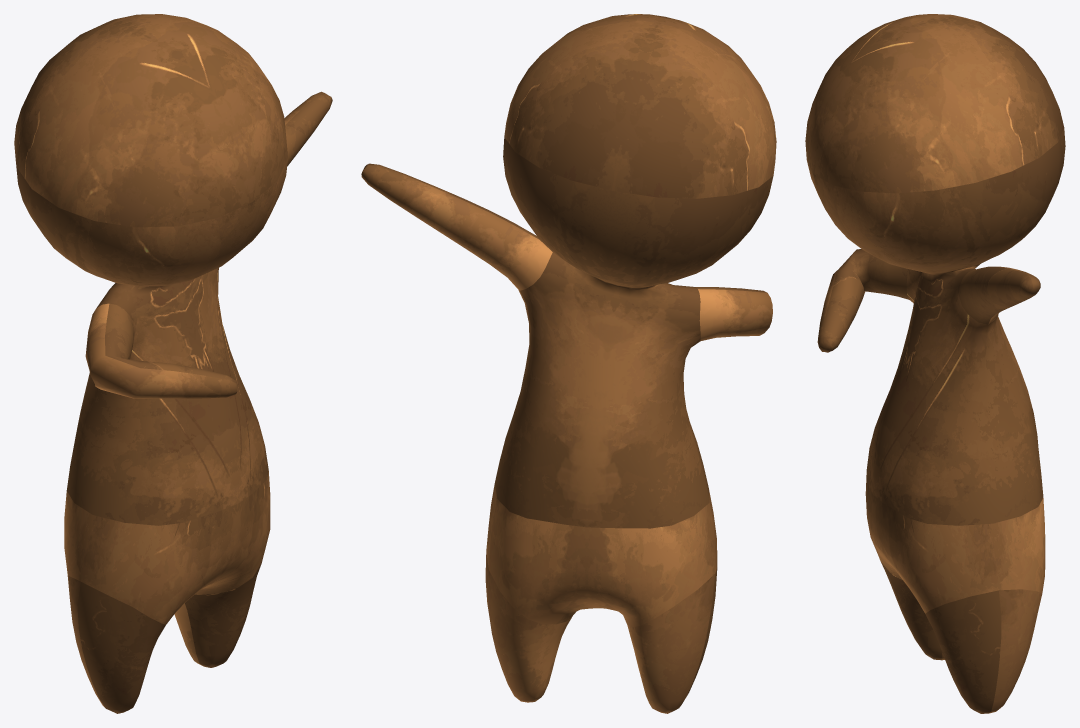
Rendered from personagem8.fbx.
3 views of the same model, side by side, from view 1: azimuth 30°, elevation 25°; view 2: azimuth 150°, elevation 25°; view 3: azimuth 270°, elevation 25° (orthographic). The views are drawn at different scales.
Parts seen in each view (by area): view 1: polySurface120; view 2: polySurface120; view 3: polySurface120.
Boxes of the visible parts, box(x1,y1,x2,y2) form: polySurface120: box(14, 14, 332, 713); polySurface120: box(361, 14, 776, 713); polySurface120: box(805, 14, 1065, 713).
Size of the model in its own units: 33.34 by 61.94 by 22.6.
